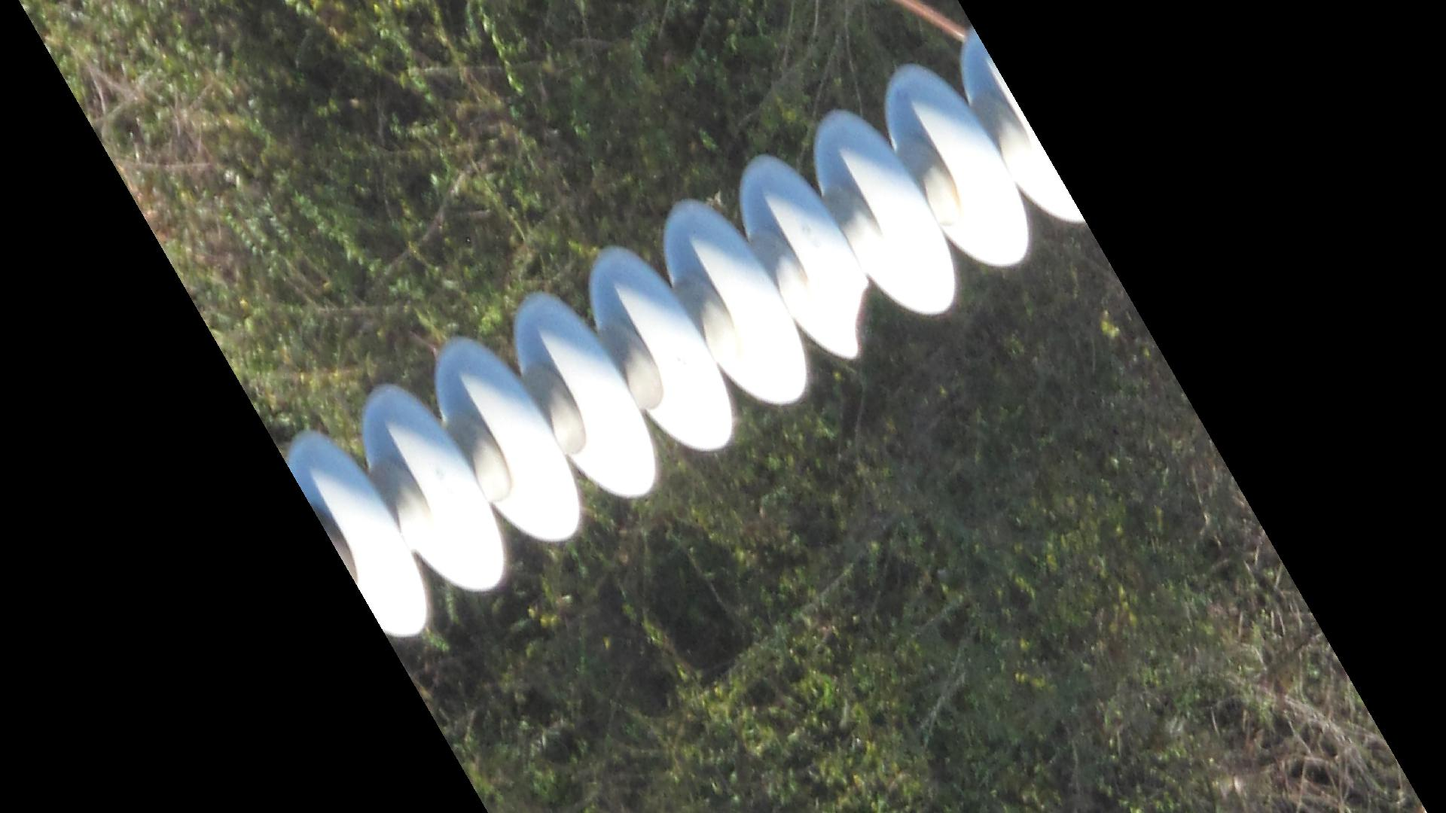insulator: (279, 19, 1091, 644)
insulator_breakage: (838, 274, 882, 363)
